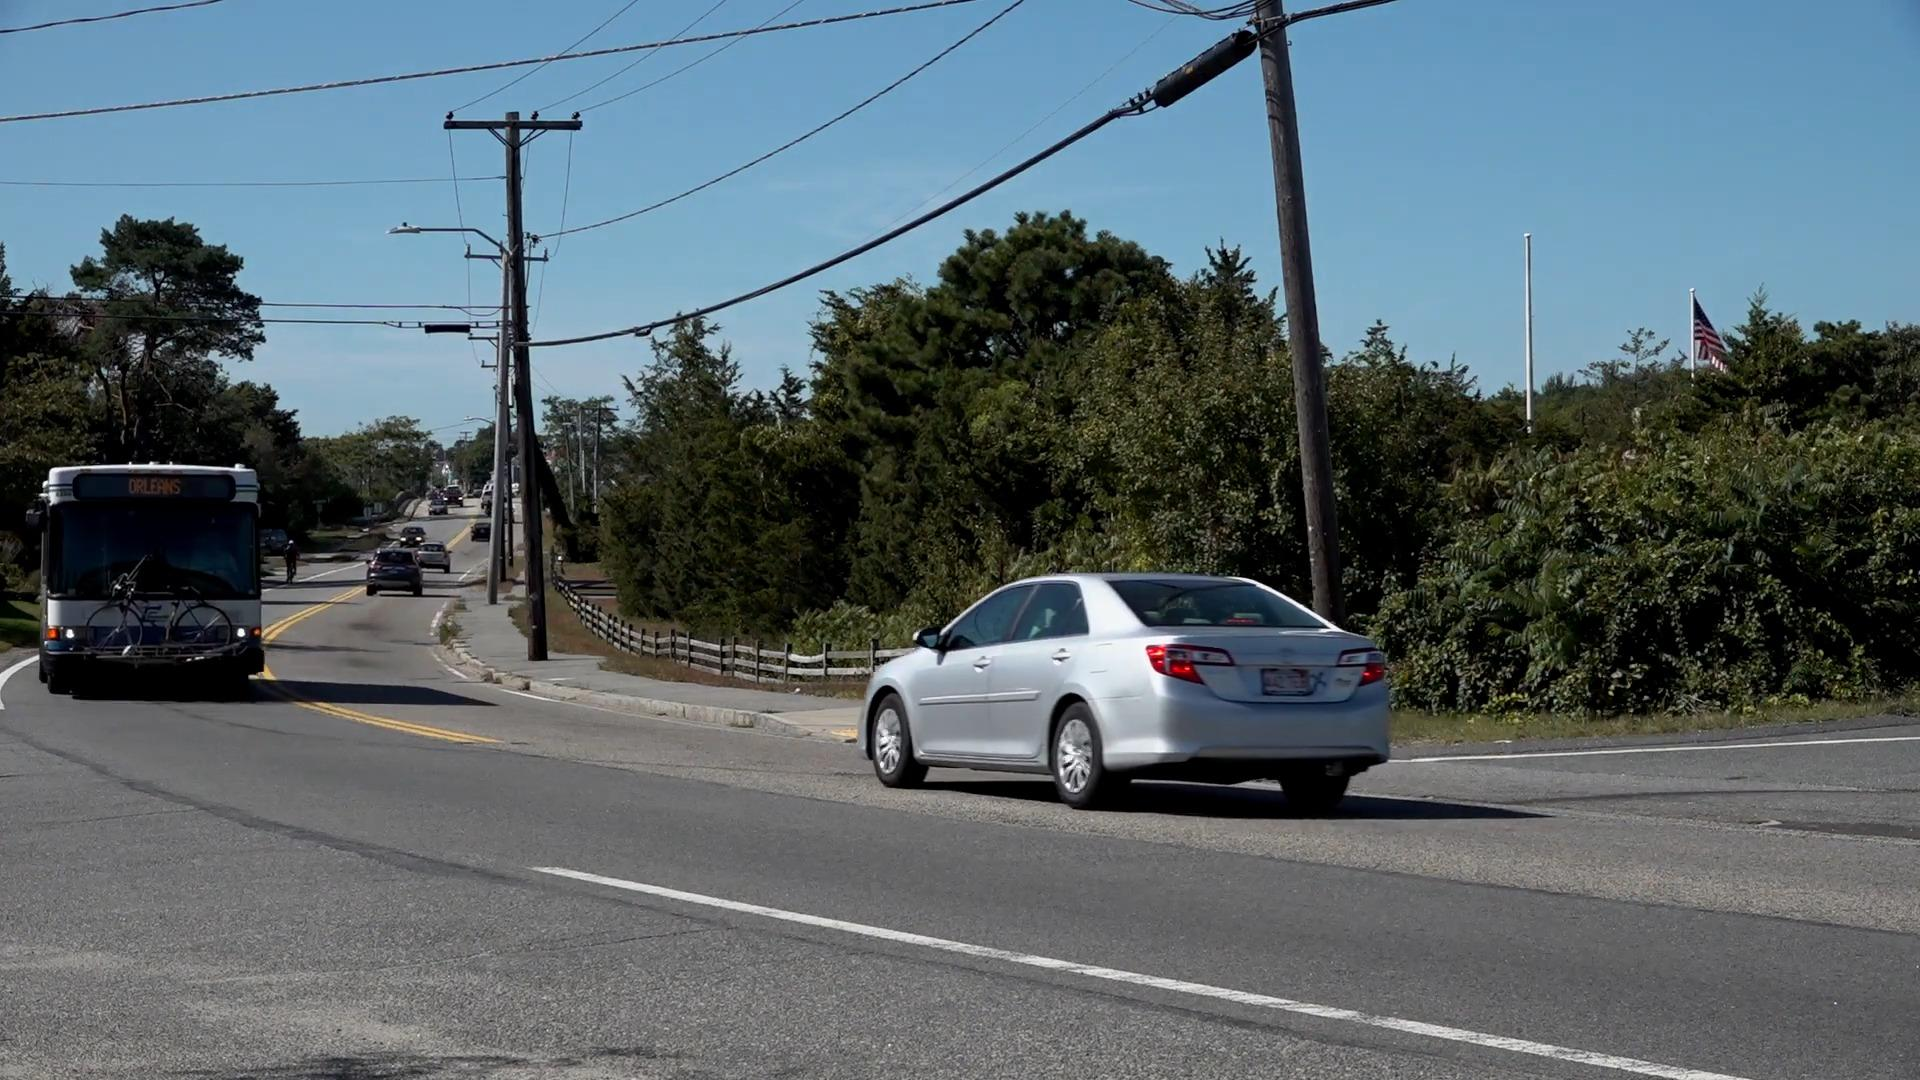sedans: (852, 568, 1402, 814)
truck: (33, 462, 268, 695)
